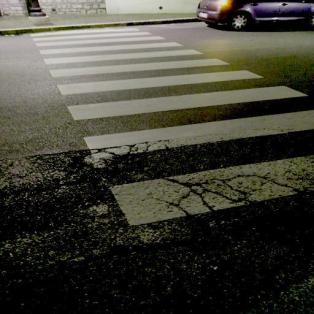Paso de Cebra: (53, 68, 310, 126), (32, 32, 188, 56)
